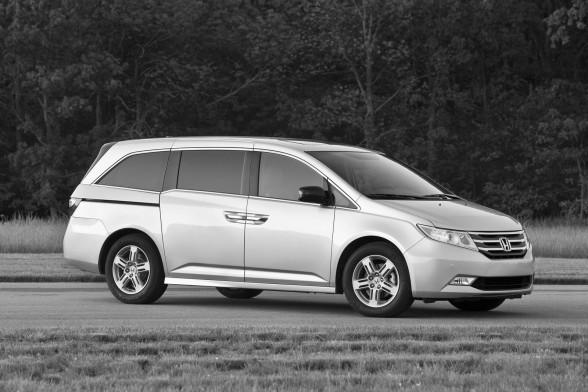car: (63, 138, 539, 321)
